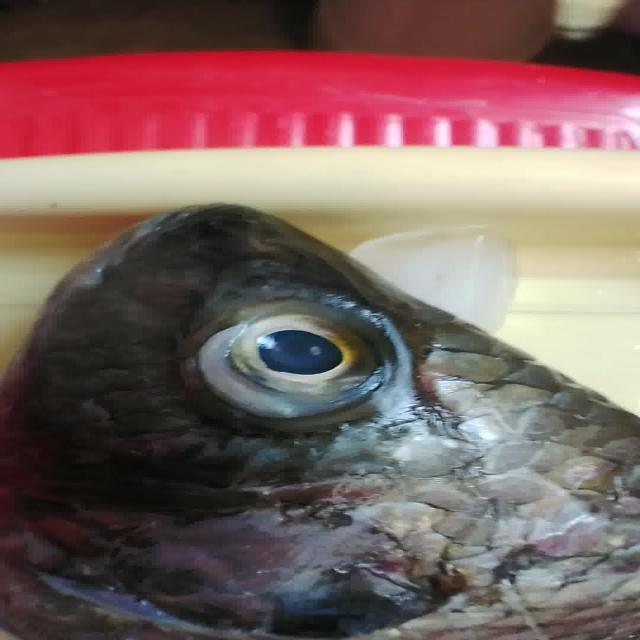Fresh: (174, 268, 504, 443)
